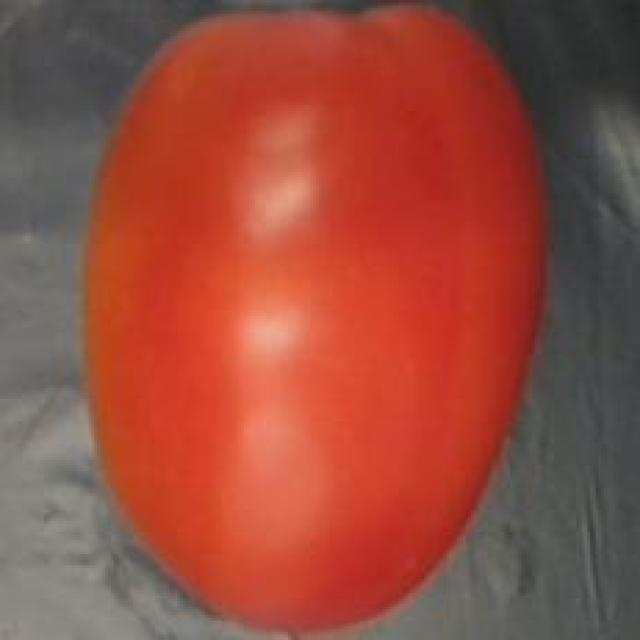ripe tomato: (72, 0, 565, 640)
